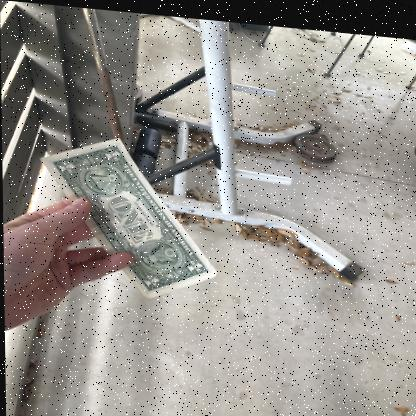one-back: (43, 137, 222, 298)
